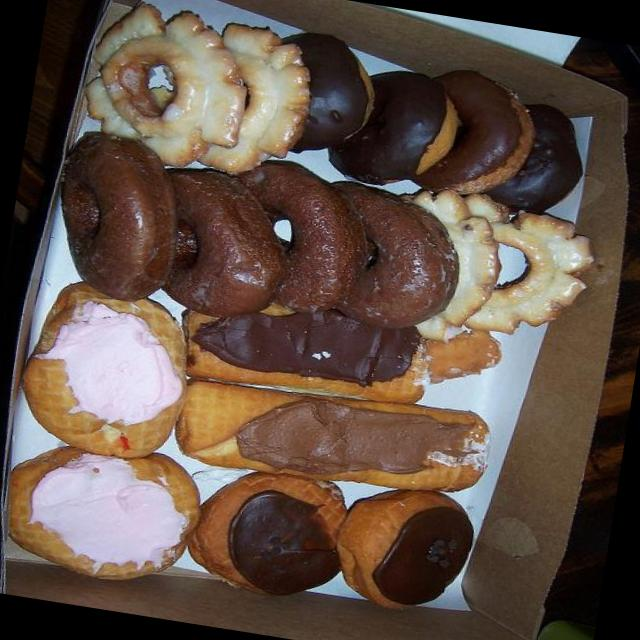donut: (8, 276, 198, 470), (0, 432, 201, 593), (175, 290, 438, 412), (73, 0, 255, 176), (216, 154, 380, 322), (138, 162, 298, 330), (36, 125, 182, 308), (309, 180, 472, 340), (180, 462, 352, 606), (325, 478, 478, 620), (323, 60, 466, 198), (412, 65, 544, 207), (262, 28, 382, 163)
